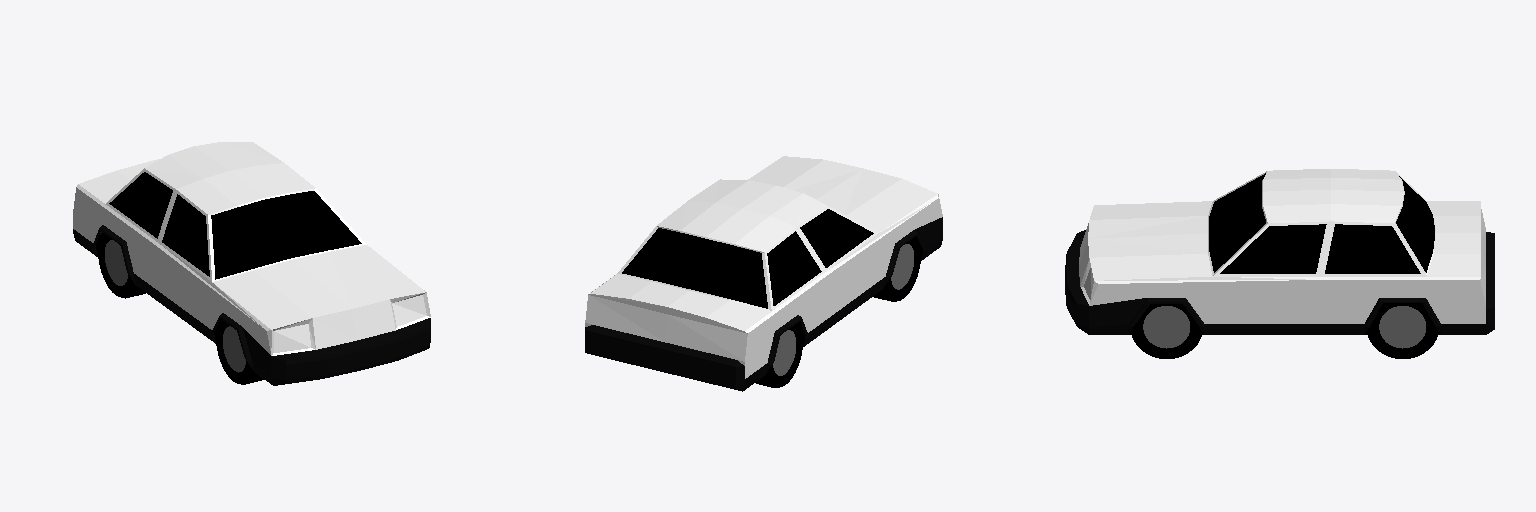
File: Car5.obj
3 views of the same model, side by side, from view 1: azimuth 30°, elevation 25°; view 2: azimuth 150°, elevation 25°; view 3: azimuth 270°, elevation 25° (orthographic).
Visible parts, largest first — view 1: Car_Cube; view 2: Car_Cube; view 3: Car_Cube.
Part boxes in pixels (bbox=[...]): Car_Cube: bbox=[73, 142, 430, 385]; Car_Cube: bbox=[585, 156, 942, 391]; Car_Cube: bbox=[1065, 169, 1494, 358].
Size of the model in its own units: 2.1 by 1.59 by 4.67.